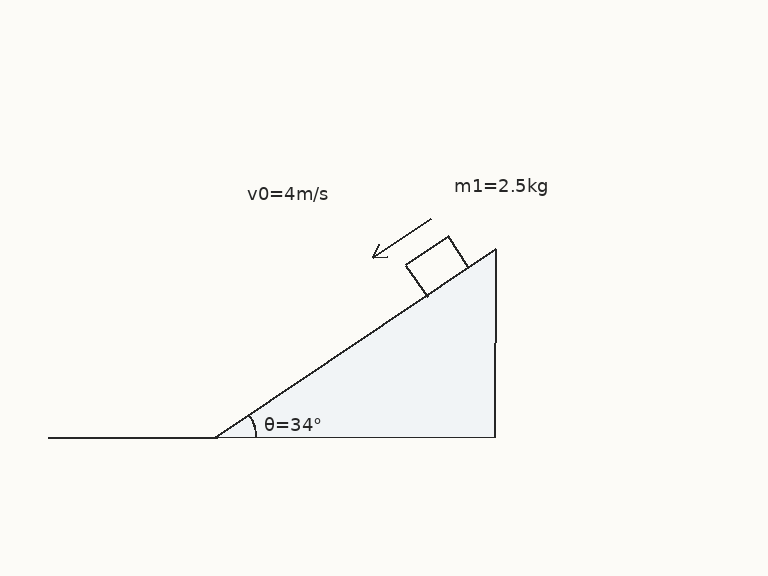block: (403, 234, 470, 297)
ramp: (214, 247, 497, 439)
